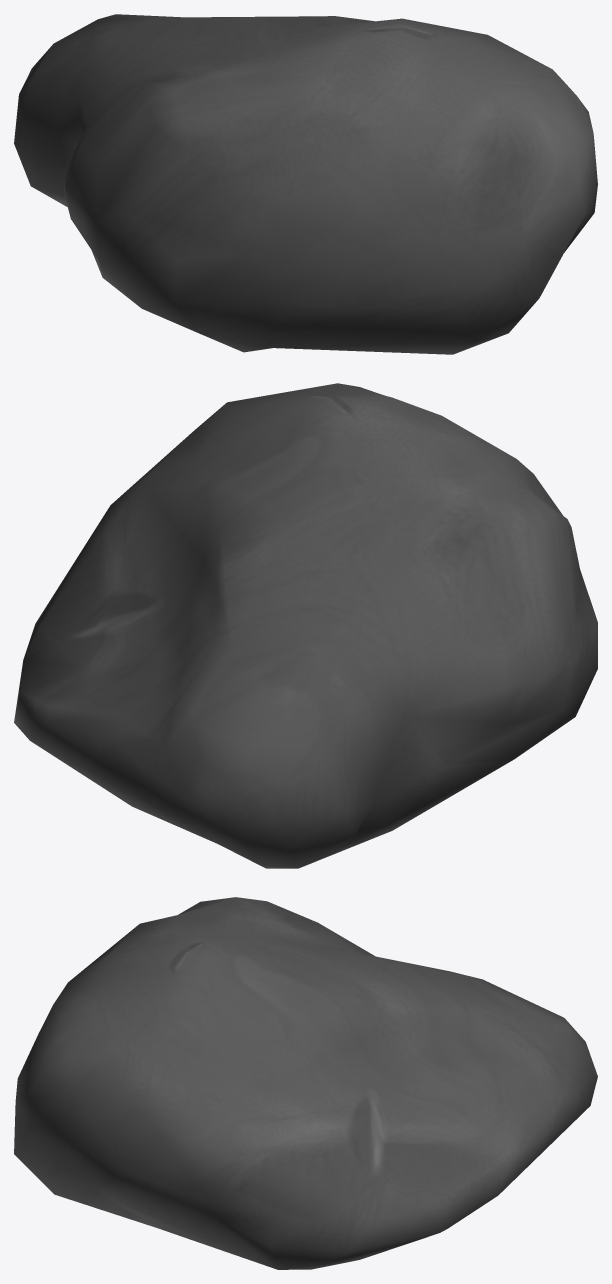
Rendered from Rock01.FBX.
3 renders of one model, top to bottom at view 1: azimuth 30°, elevation 25°; view 2: azimuth 150°, elevation 25°; view 3: azimuth 270°, elevation 25°, orthographic. The views are drawn at different scales.
Visible parts, largest first — view 1: Rock01; view 2: Rock01; view 3: Rock01.
Boxes of the visible parts, left/top/right/bottom form: Rock01: left=14, top=14, right=597, bottom=354; Rock01: left=14, top=383, right=597, bottom=868; Rock01: left=14, top=897, right=597, bottom=1269.
Bounding box in the file's own units: 141 × 86.21 × 169.
